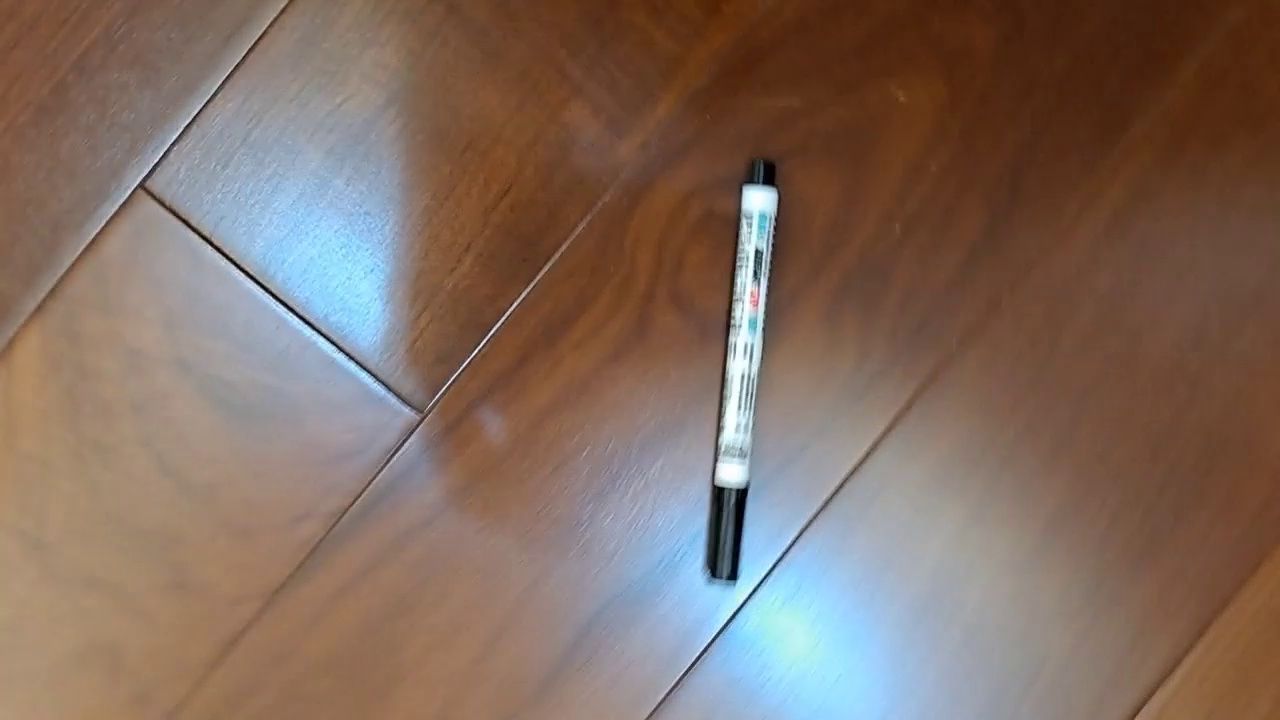pen: (702, 156, 781, 587)
